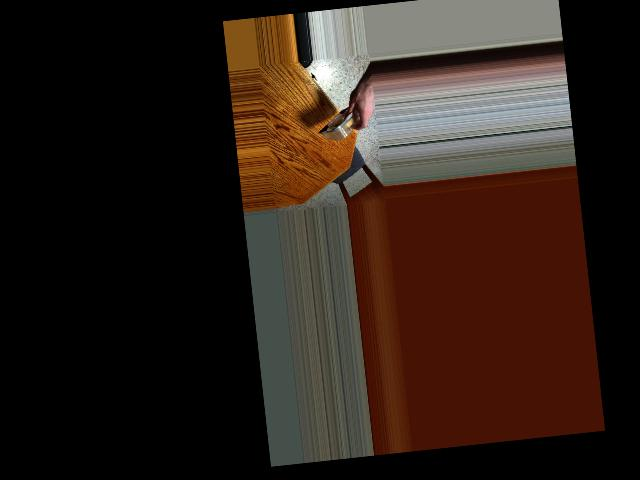cheese: (318, 90, 368, 147)
